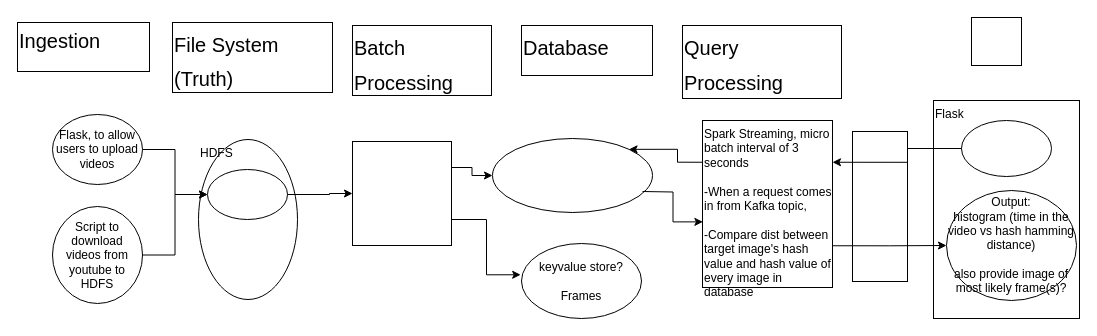
The diagram is 1097 pixels wide and 336 high, and some of its shapes have lost their labels. Each missing label, with the box of its shape:
Cassandra (hashValue, videoName, frameNum, ptr to frame.jpg): (492, 138, 652, 212)
Kafka: (852, 130, 908, 282)
Spark Extract all frames from each video and calulate hash value for each frame: (352, 140, 452, 246)
UI: (970, 16, 1022, 66)
User provides image to search for: (960, 120, 1052, 176)
Videos(mp4): (206, 168, 288, 220)
